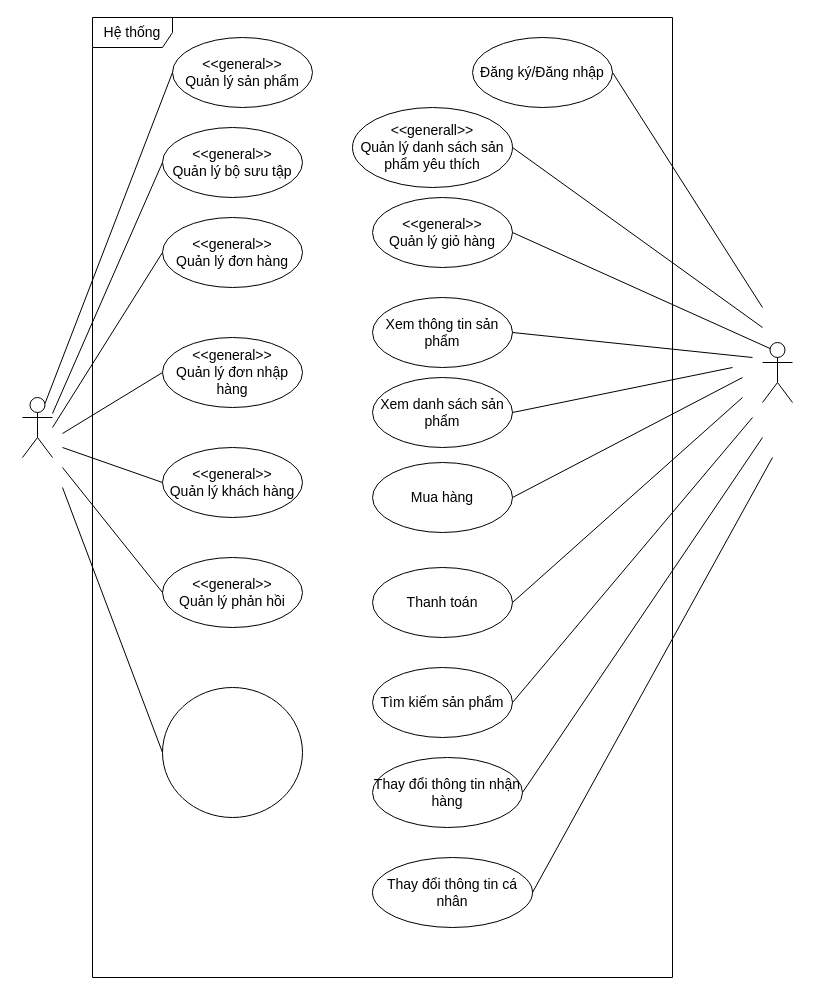
Image size: 814x995. Some labels were removed from this diagram. The shapes that lost their labels are listed below. From the top down, each one's box as (x1, y1, x2, y2) in pixels, then its label:
(762, 342, 792, 402): Guess
(22, 396, 52, 458): Admin
(162, 686, 302, 818): <<general>> Quản lý ý kiến phản hồi của khách hàng
